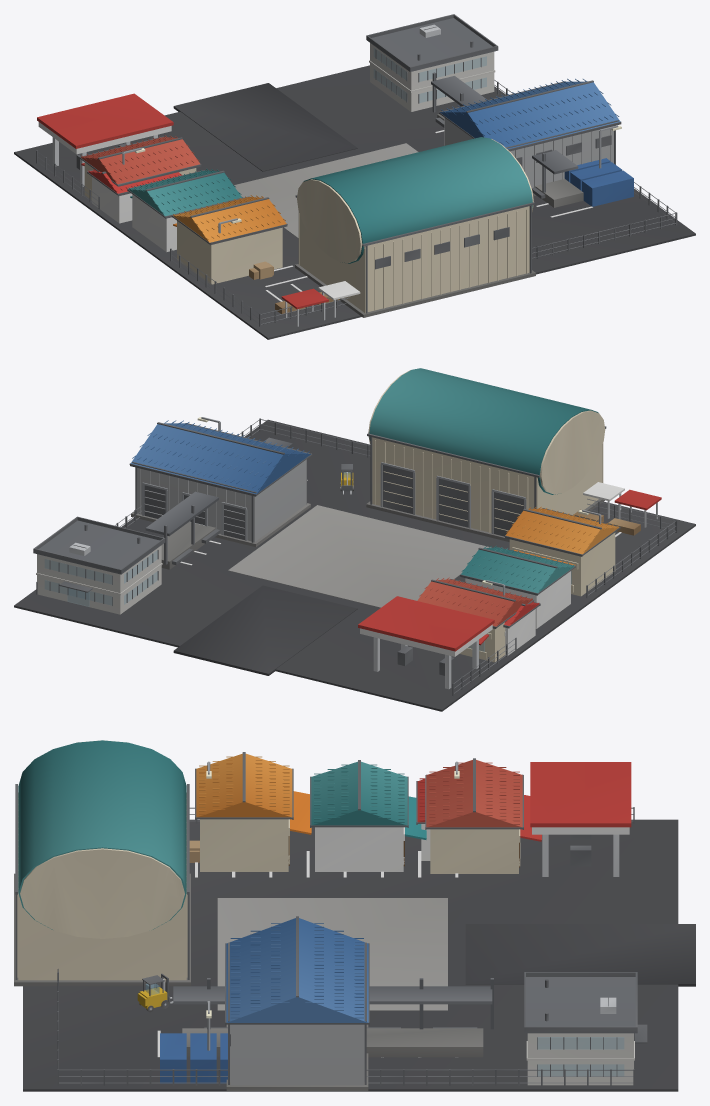
File: Market_P2.fbx
3 views of the same model, one above another, from view 1: azimuth 30°, elevation 25°; view 2: azimuth 150°, elevation 25°; view 3: azimuth 270°, elevation 25° (orthographic). The views are drawn at different scales.
Parts seen in each view (by area): view 1: Market.Pad, Market.WH1, Market.WH2, Market.Office, Market.Shop2, Market.Fuel, Market.Shop1, Market.Shop0, Market.Dock, Market.Goods, Market.Fence, Market.FuelShop (+1 smaller); view 2: Market.Pad, Market.WH1, Market.WH2, Market.Office, Market.Fuel, Market.Shop2, Market.Shop1, Market.Shop0, Market.Dock, Market.Fence, Market.Stalls, Market.FuelShop; view 3: Market.Pad, Market.WH1, Market.WH2, Market.Office, Market.Shop2, Market.Shop0, Market.Shop1, Market.Fuel, Market.Dock, Market.Goods, Market.Fence, Market.Fork0 (+1 smaller).
Part boxes in pixels (left/top/right/bottom): Market.Pad: left=14, top=65, right=695, bottom=339; Market.WH1: left=295, top=137, right=535, bottom=317; Market.WH2: left=439, top=78, right=621, bottom=196; Market.Office: left=366, top=14, right=498, bottom=111; Market.Shop2: left=171, top=195, right=287, bottom=284; Market.Fuel: left=37, top=93, right=173, bottom=186; Market.Shop1: left=127, top=168, right=242, bottom=251; Market.Shop0: left=79, top=135, right=201, bottom=199; Market.Dock: left=431, top=72, right=583, bottom=207; Market.Goods: left=249, top=158, right=633, bottom=279; Market.Fence: left=36, top=80, right=677, bottom=326; Market.FuelShop: left=87, top=169, right=181, bottom=223; Market.Pad: left=14, top=419, right=695, bottom=711; Market.WH1: left=366, top=368, right=606, bottom=541; Market.WH2: left=129, top=420, right=312, bottom=547; Market.Office: left=33, top=516, right=165, bottom=614; Market.Fuel: left=358, top=596, right=494, bottom=689; Market.Shop2: left=504, top=506, right=620, bottom=596; Market.Shop1: left=460, top=545, right=575, bottom=628; Market.Shop0: left=417, top=577, right=534, bottom=662; Market.Dock: left=145, top=437, right=292, bottom=569; Market.Fence: left=36, top=418, right=677, bottom=696; Market.Stalls: left=573, top=482, right=661, bottom=535; Market.FuelShop: left=503, top=601, right=540, bottom=655; Market.Pad: left=23, top=819, right=695, bottom=1091; Market.WH1: left=14, top=740, right=190, bottom=986; Market.WH2: left=225, top=916, right=369, bottom=1090; Market.Office: left=524, top=972, right=647, bottom=1085; Market.Shop2: left=195, top=752, right=311, bottom=871; Market.Shop0: left=425, top=758, right=541, bottom=873; Market.Shop1: left=310, top=760, right=426, bottom=871; Market.Fuel: left=530, top=762, right=631, bottom=876; Market.Dock: left=173, top=978, right=493, bottom=1057; Market.Goods: left=160, top=840, right=227, bottom=1083; Market.Fence: left=57, top=807, right=634, bottom=1085; Market.Fork0: left=137, top=973, right=173, bottom=1012.
Size of the model in its own units: 7267 by 1751 by 7700.
